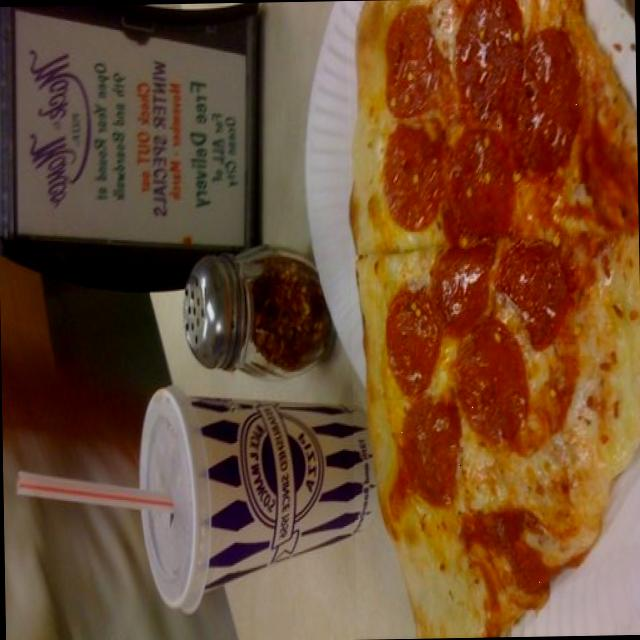pepperoni: (501, 20, 588, 184), (435, 130, 518, 259), (445, 0, 524, 135), (376, 1, 466, 117), (446, 324, 520, 449), (390, 398, 470, 512), (371, 126, 456, 231), (465, 506, 550, 610), (500, 232, 574, 344), (376, 278, 440, 399), (428, 240, 496, 337)
pizza: (350, 0, 640, 634)
